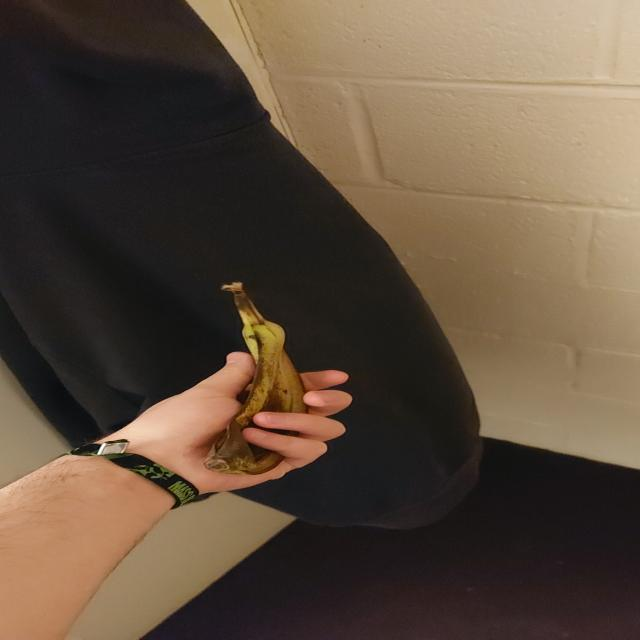banana-peel: (202, 279, 308, 475)
